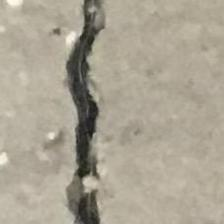Crack: (36, 0, 150, 224)
